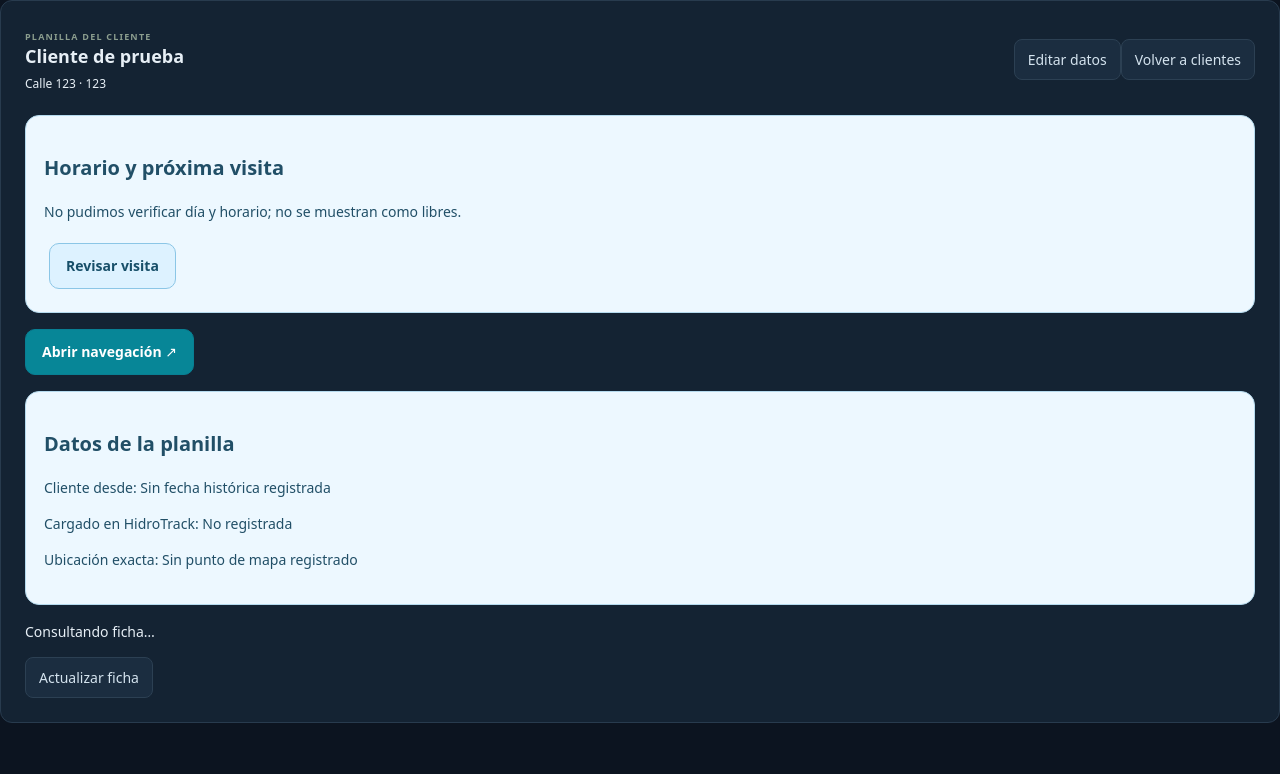
Test: permite recuperar la ficha despues de un error antes de habilitar las cantidades
The width and height of the screenshot is (1280, 774).
Expected: the message "No pudimos verificar día y horario; no se muestran como libres." is shown, [44, 202, 461, 221]
Expected: the text "2 para devolver" is not shown
Step 1. Click the button "Actualizar ficha" → x=89, y=678, box [25, 657, 153, 698]
(page scrolled)
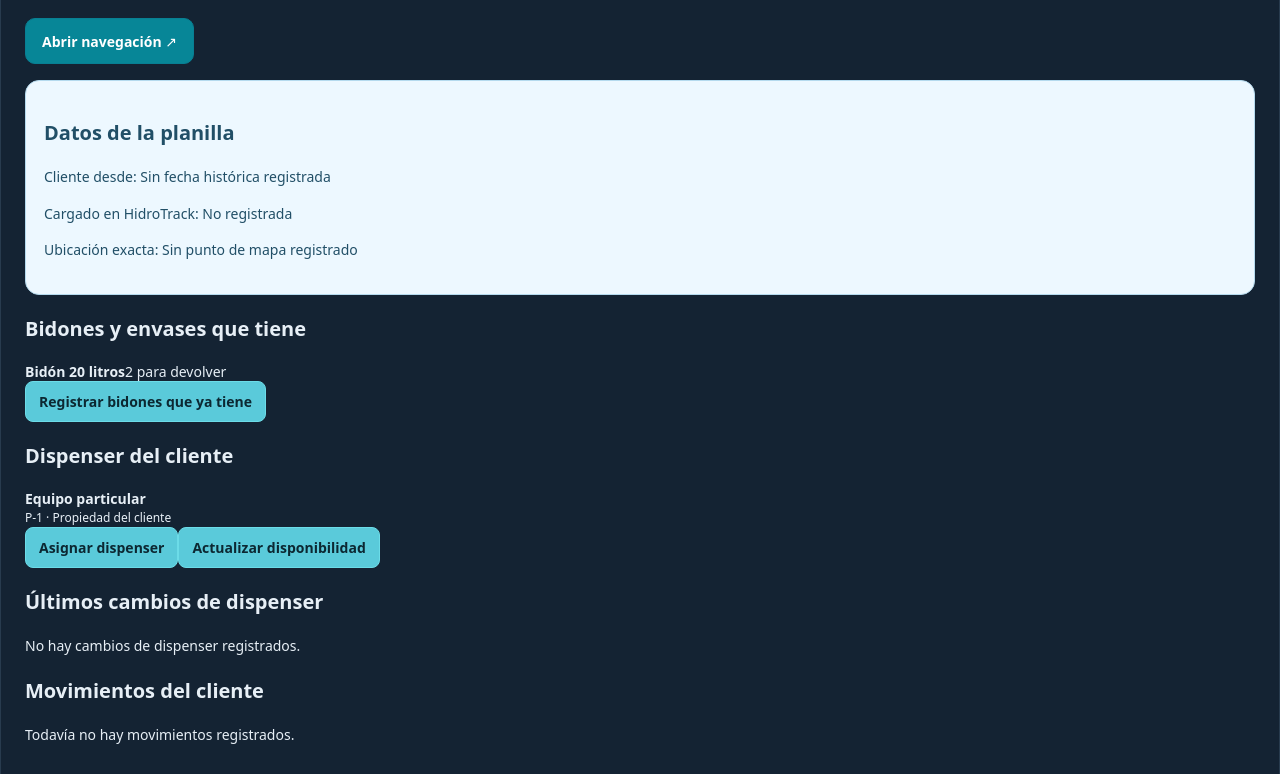
Expected: the text "2 para devolver" is shown, [125, 362, 226, 380]
Expected: the button "Registrar bidones que ya tiene" is enabled, [25, 380, 266, 422]
